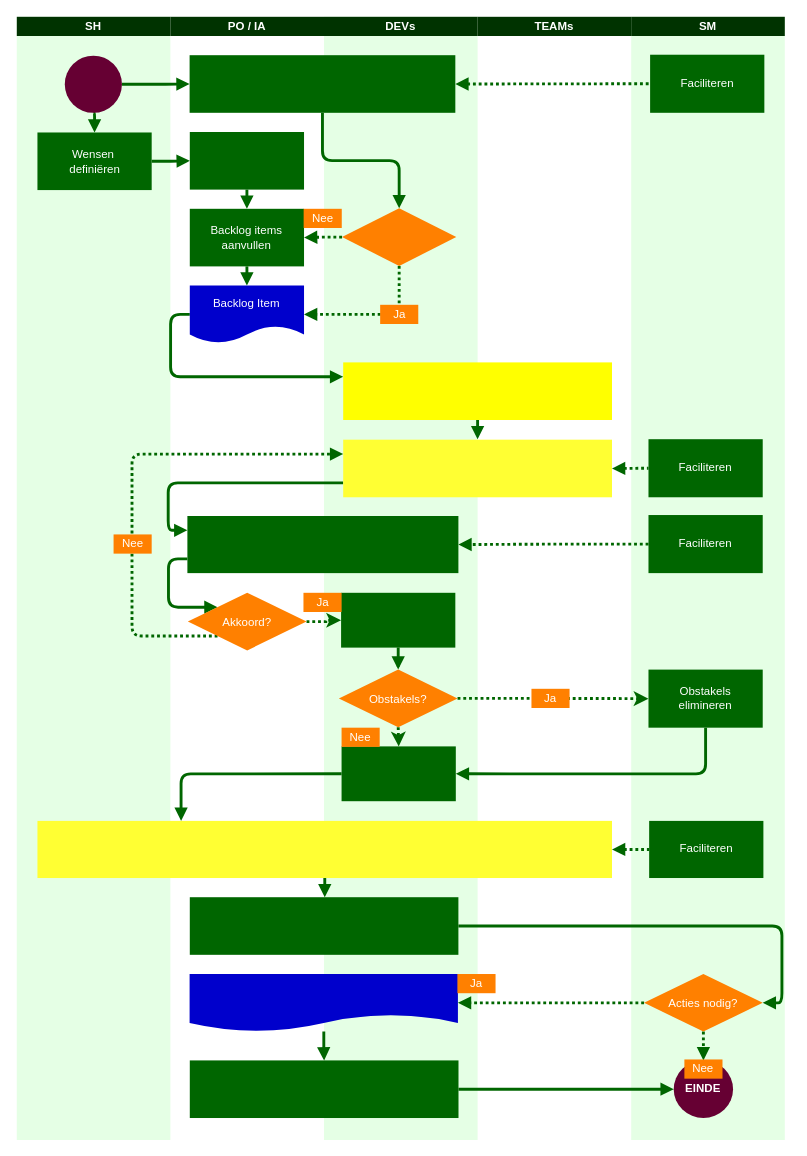
The diagram is 807 pixels wide and 1156 high, and some of its shapes have lost their labels. Here are the shapes that lost their labels. From the top down, the centre of each, then its label:
the point at 92,83: START
the point at 322,83: Backlog items verduidelijken
the point at 246,160: Backlog items aanmaken
the point at 399,236: Backlog item duidelijk?
the point at 477,391: Identificeren afhankelijkheden tussen teams
the point at 477,468: Teamoverstijgende planning maken
the point at 322,544: Backlog items plannen
the point at 398,619: Dagelijks werk plannen
the point at 398,773: Uitvoeren geplande werkzaamheden
the point at 324,849: Gezamenlijk presenteren en reviewen van uitgevoerde werk
the point at 323,925: Reflecteren op samenwerking, verricht werk en processen
the point at 323,1002: Actiepunt
the point at 323,1089: Actiepunt opvolgen
